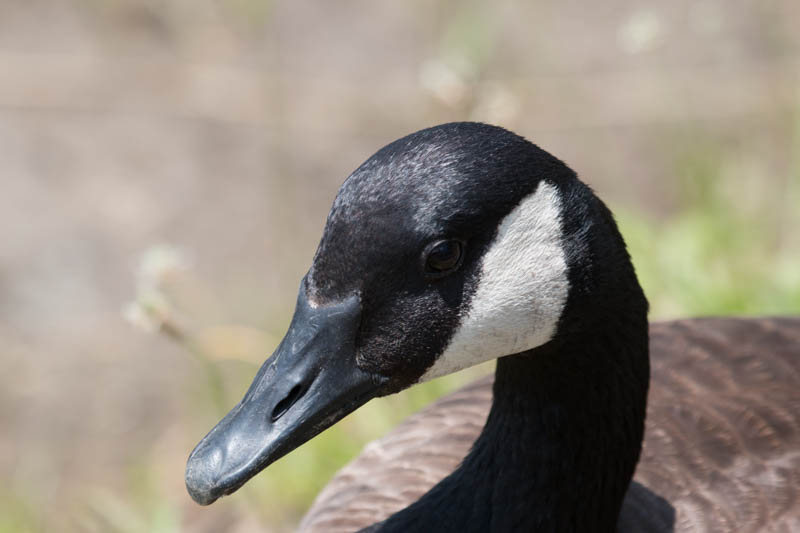goose-head: (184, 121, 634, 509)
